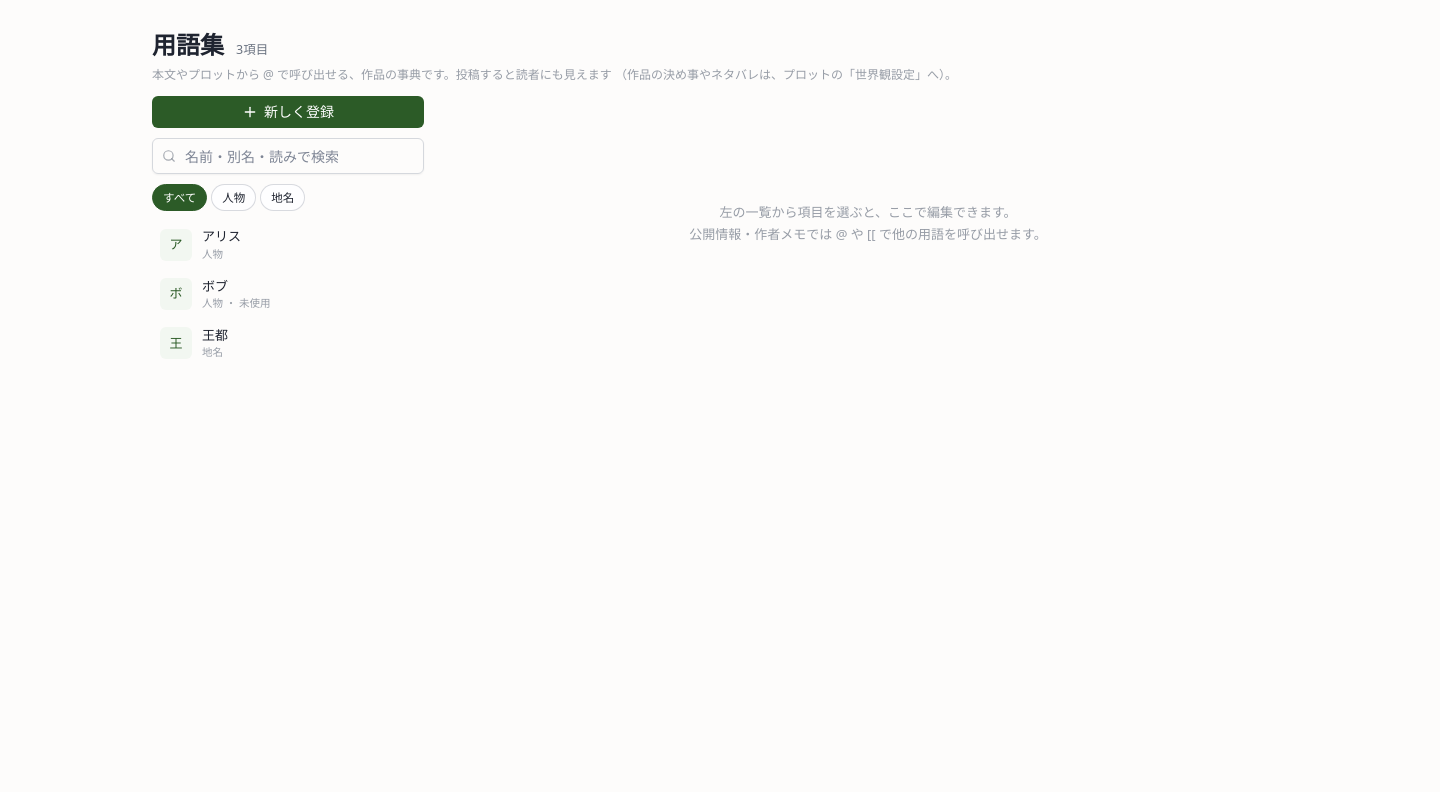
Scenario: GlossaryView（左右2カラム：一覧・検索・その場編集） › 登録が重複で reject されるとエラーを表示し、名前の無い項目のまま残る
The width and height of the screenshot is (1440, 792).
Click the button "新しく登録" at (288, 112), box [152, 96, 424, 128]
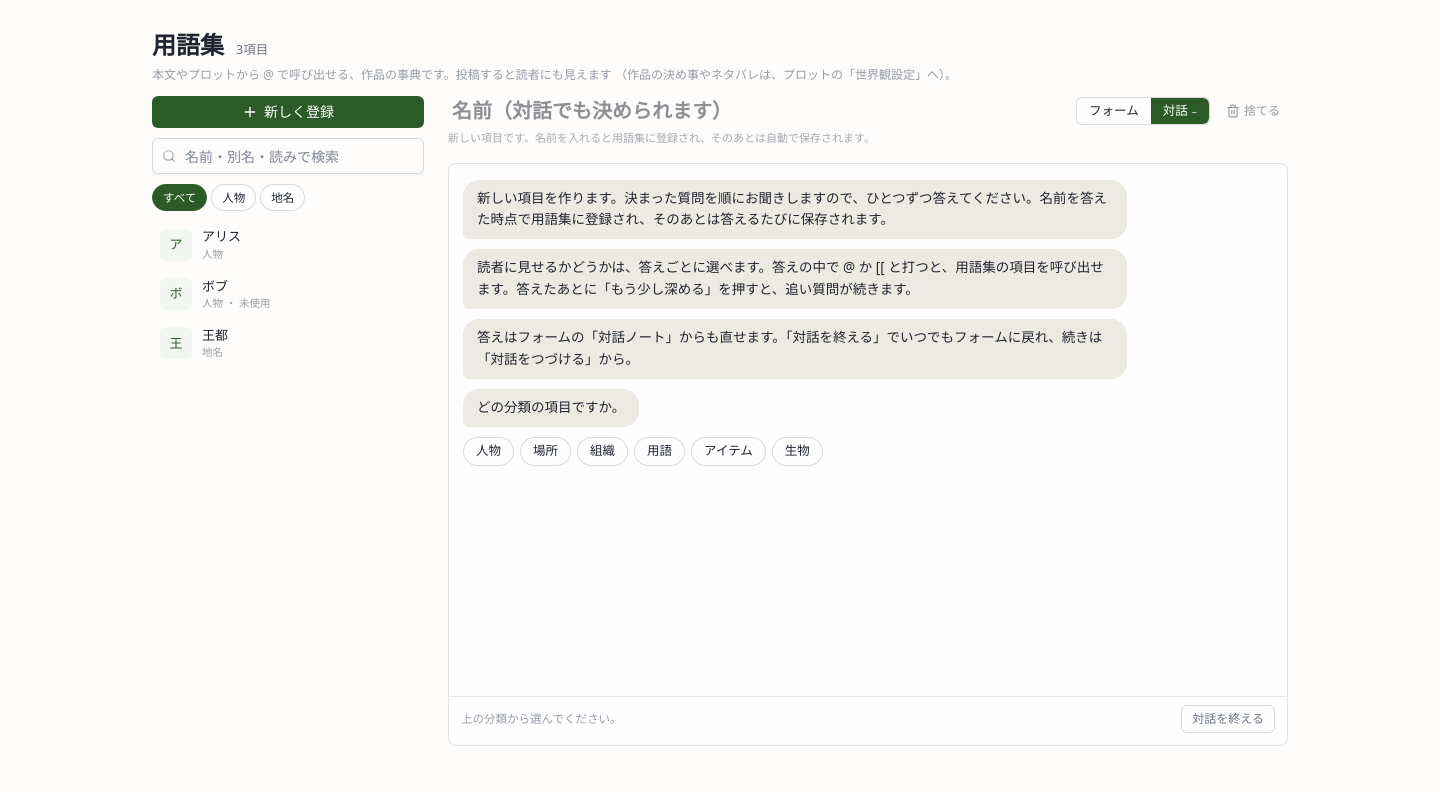
Click the button "フォーム" at (1114, 111), box [1077, 98, 1151, 124]
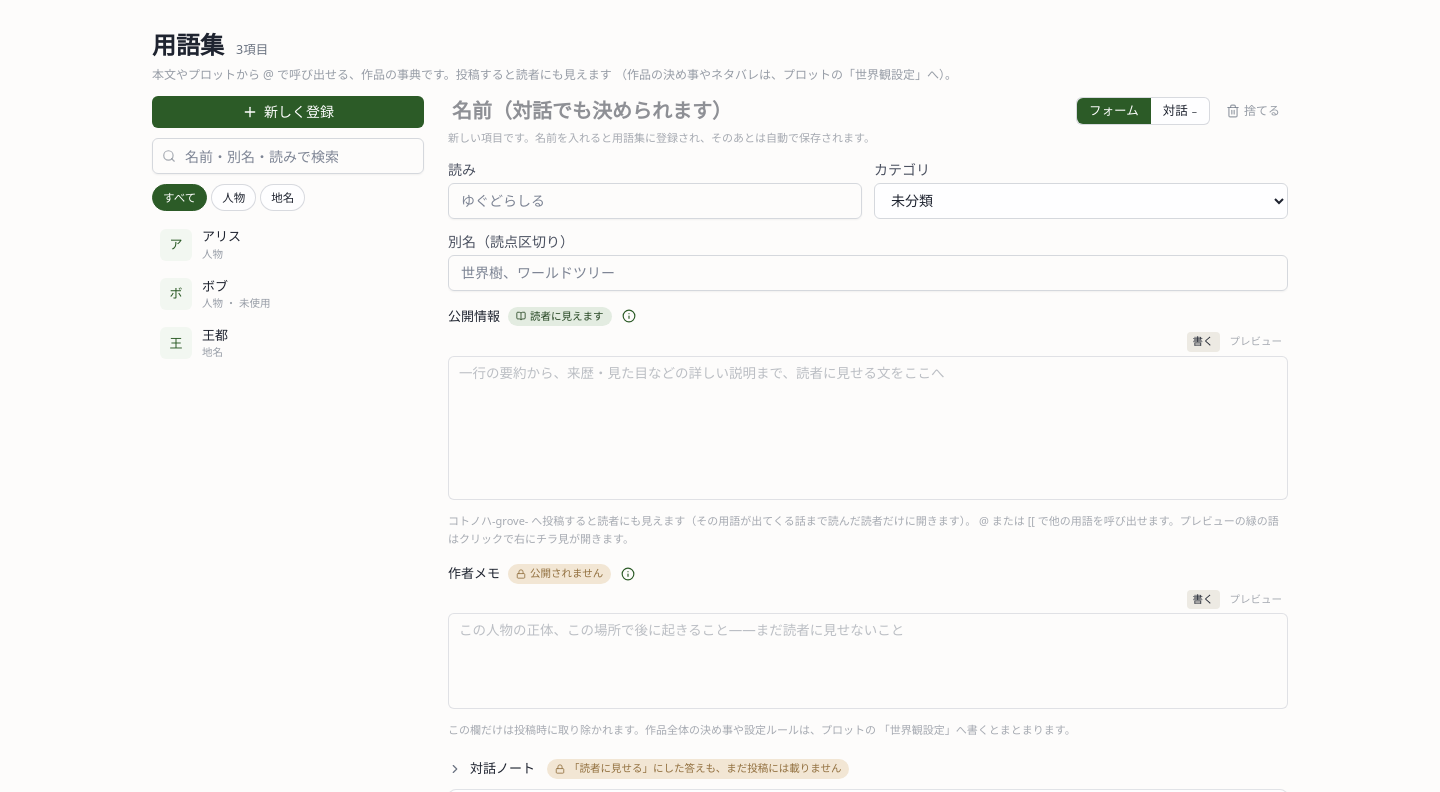
Type "アリス" into the field labelled "名前" at (756, 111), box [448, 96, 1064, 126]
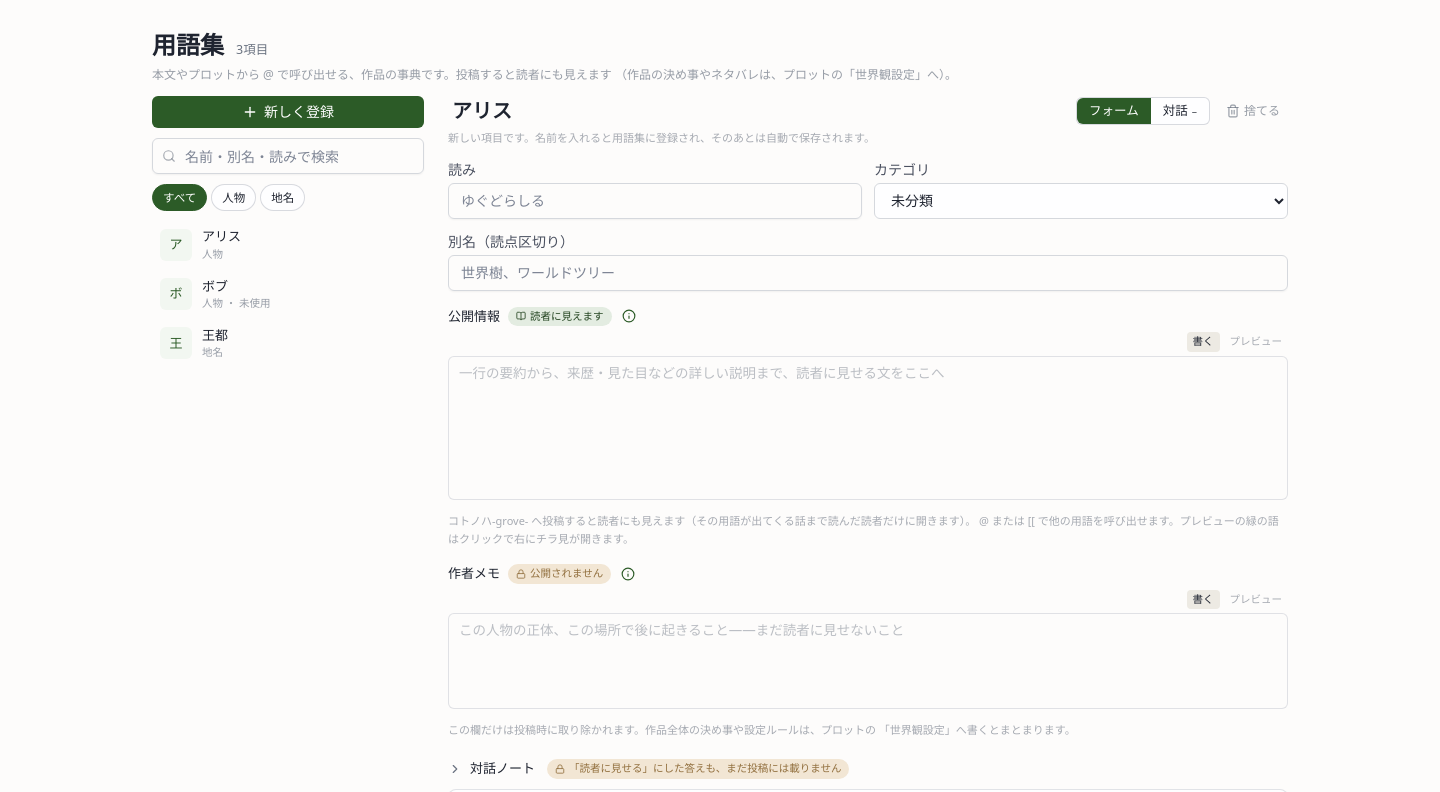
Leave the field named "名前", box [448, 96, 1064, 126]
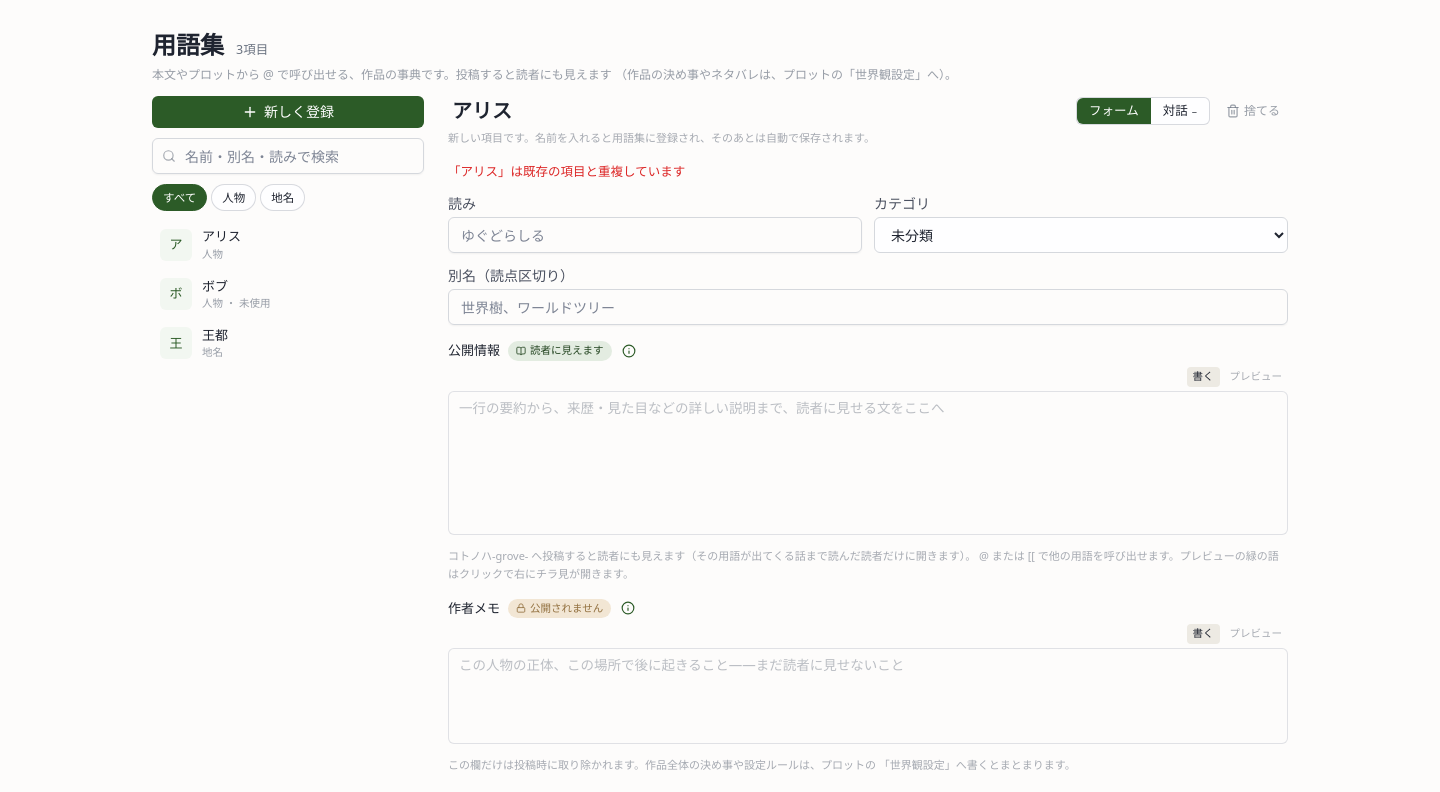
Expected: the button with aria-label "書きかけを捨てる" is shown, [1218, 96, 1288, 126]
Expected: the message shows "重複", [448, 162, 685, 180]
